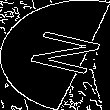N_E: (10, 28, 100, 82)
